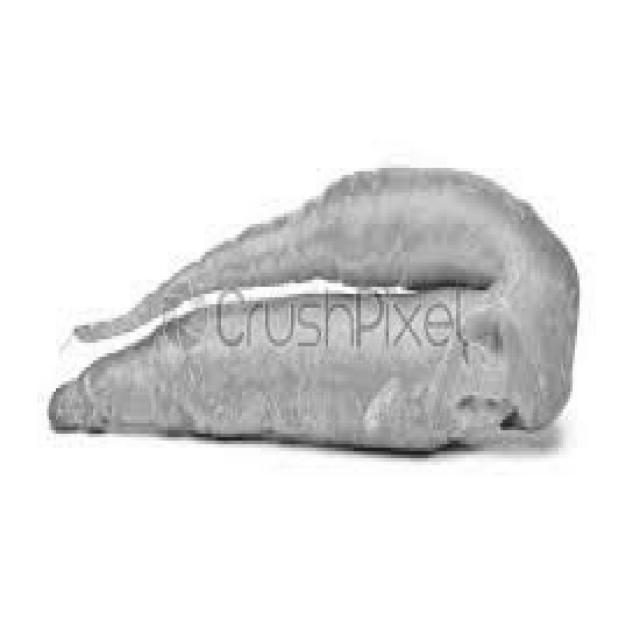Stale_Carrot: (17, 131, 598, 457)
